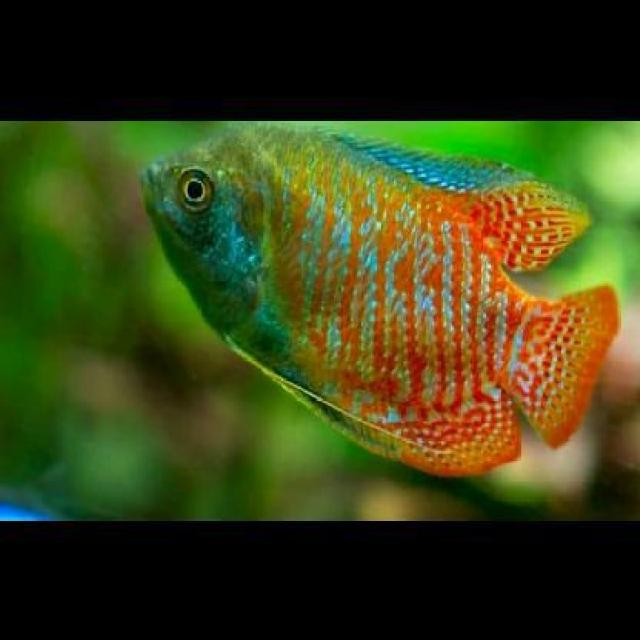Gourami: (140, 120, 608, 474)
